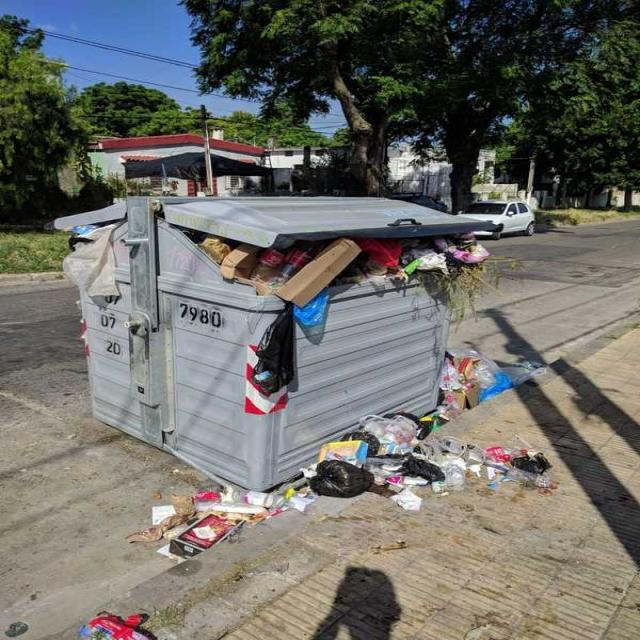garbage: (194, 230, 527, 328), (284, 402, 554, 509), (124, 480, 319, 566), (426, 348, 564, 411), (58, 220, 134, 306), (66, 604, 164, 638)
